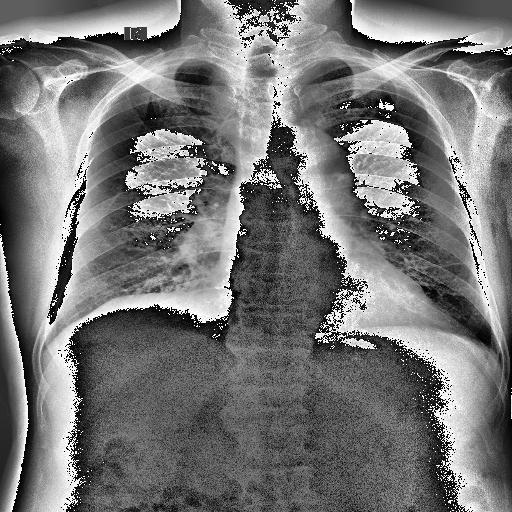0- Aortic enlargement: (282, 128, 352, 200), (272, 126, 354, 184), (276, 134, 350, 194)
11- Pleural thickening: (343, 56, 397, 80), (358, 58, 406, 84), (178, 58, 220, 66)
3- Cardiomegaly: (206, 265, 434, 331)
